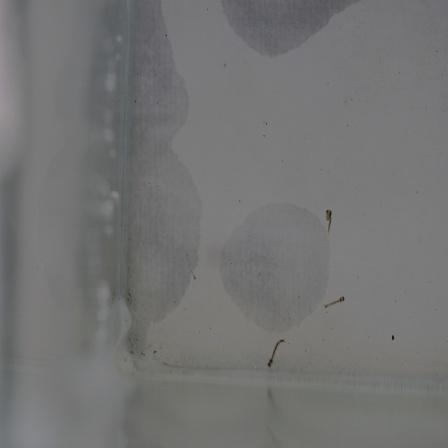Jentik-Nyamuk: (265, 334, 288, 372), (321, 289, 348, 313), (318, 206, 337, 239)
